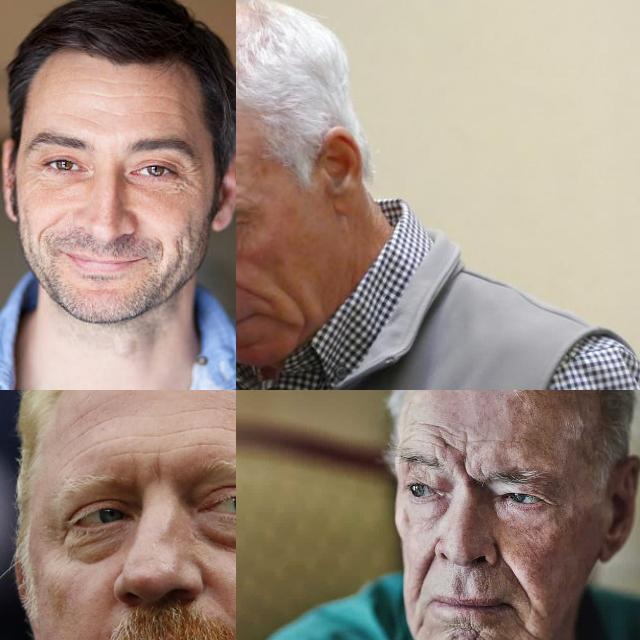chin: (461, 627, 486, 640)
crows_feet: (48, 526, 72, 554), (177, 164, 200, 193)
forehead: (122, 430, 194, 458), (70, 410, 112, 450), (206, 403, 236, 441), (426, 424, 456, 450), (152, 90, 186, 108), (91, 87, 127, 103), (88, 75, 125, 88), (146, 108, 180, 122)
frown_line: (456, 450, 474, 486), (152, 454, 168, 486)
gummy_smile: (496, 548, 534, 592), (236, 273, 268, 301), (416, 553, 434, 591), (152, 232, 166, 262), (34, 218, 48, 245)
masseter: (284, 287, 318, 321)
sad_smile: (514, 610, 541, 640)
